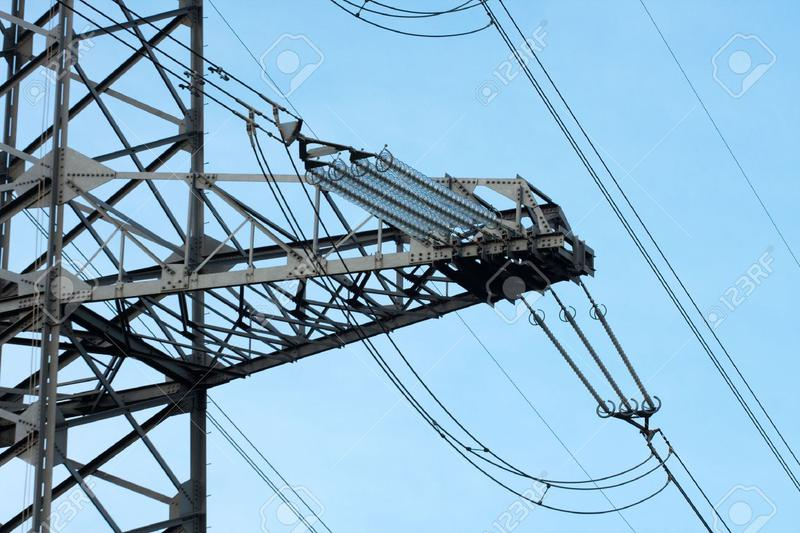isolator: (306, 154, 496, 241)
